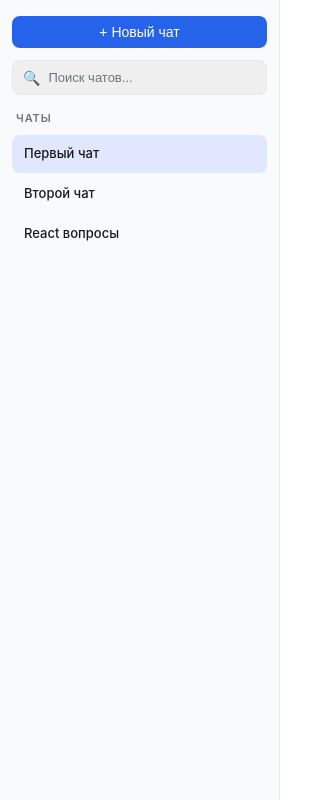
it: Sidebar › фильтрация чатов › при вводе текста список фильтруется по названию
Type "React" into the field with placeholder "Поиск чатов..." at (152, 78), box [48,70,256,85]
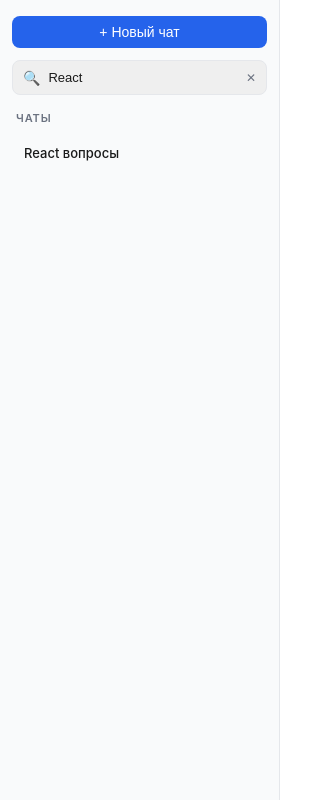
Check: the text "React вопросы" is shown, box [24,145,119,161]
Check: the text "Первый чат" is gone
Check: the text "Второй чат" is gone
